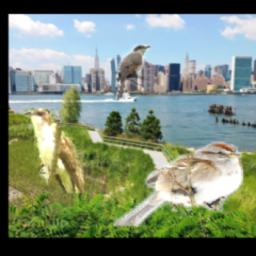Cuckoo: (25, 109, 85, 194), (116, 45, 150, 100)
Sparrow: (113, 142, 243, 227)
